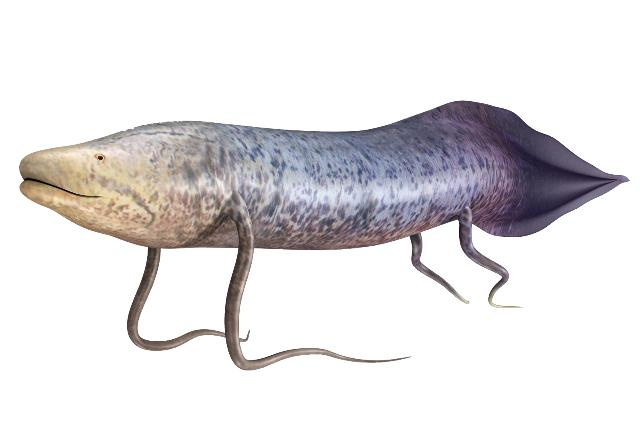Mulut: (0, 146, 116, 230)
Sirip Ekor: (493, 100, 637, 256)
